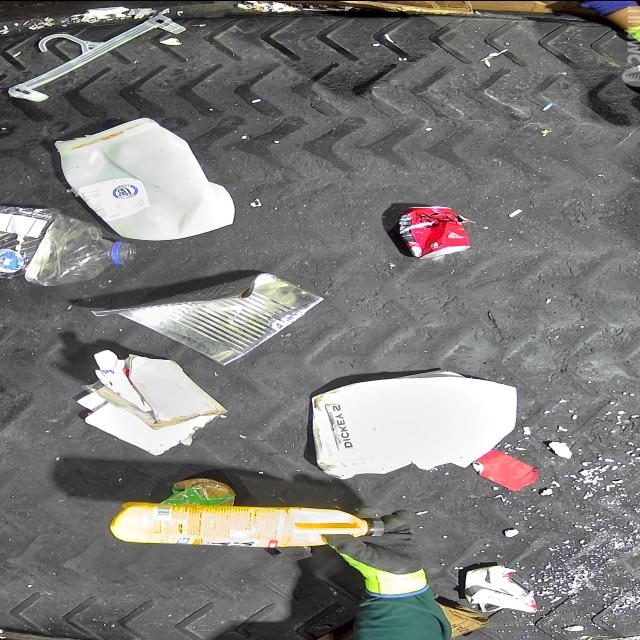can: (398, 204, 471, 258)
milk_jug: (54, 116, 236, 240)
non_white_jug: (110, 500, 386, 547)
plastic_bottle: (0, 204, 138, 286)
